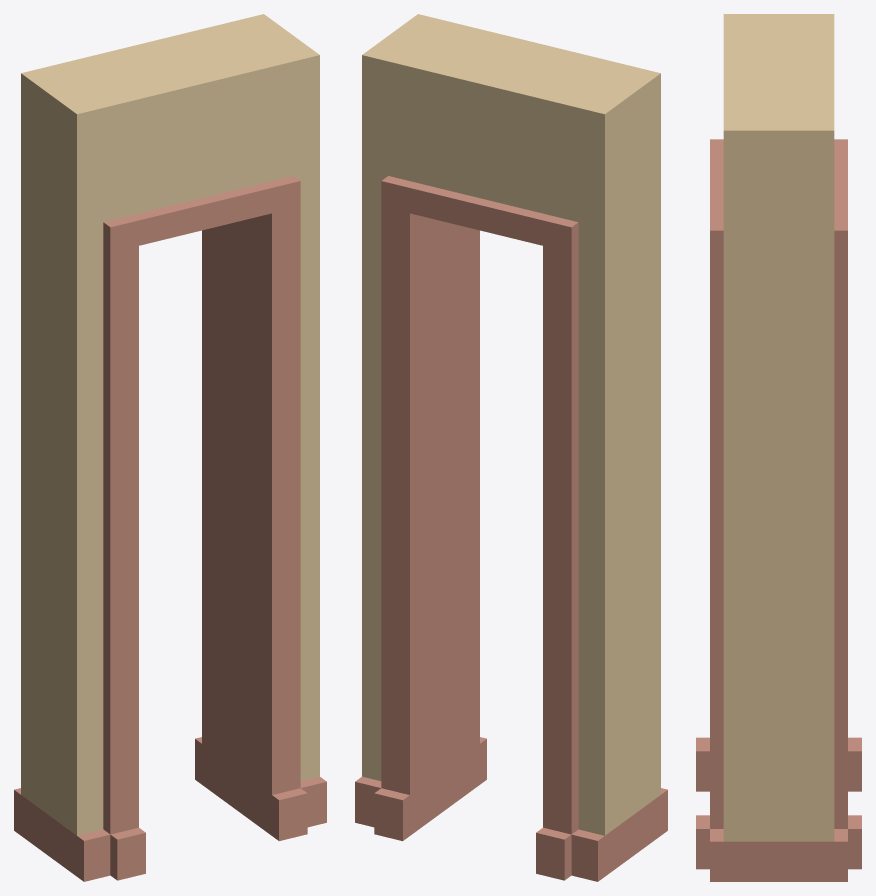
The model's file is Wall_Door.glb.
3 views of the same model, side by side, from view 1: azimuth 30°, elevation 25°; view 2: azimuth 150°, elevation 25°; view 3: azimuth 270°, elevation 25° (orthographic).
Parts seen in each view (by area): view 1: Wall_Door_Hole; view 2: Wall_Door_Hole; view 3: Wall_Door_Hole.
Part boxes in pixels (x1,y1,x2,y2): Wall_Door_Hole: (14,14,326,881); Wall_Door_Hole: (355,14,667,881); Wall_Door_Hole: (696,14,861,881).
Bounding box in the file's own units: 1 × 3 × 0.6.
